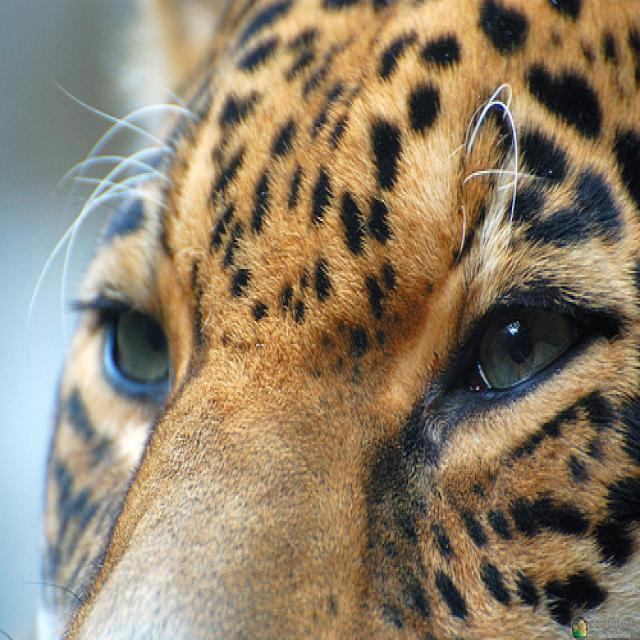Leopard: (36, 0, 637, 636)
